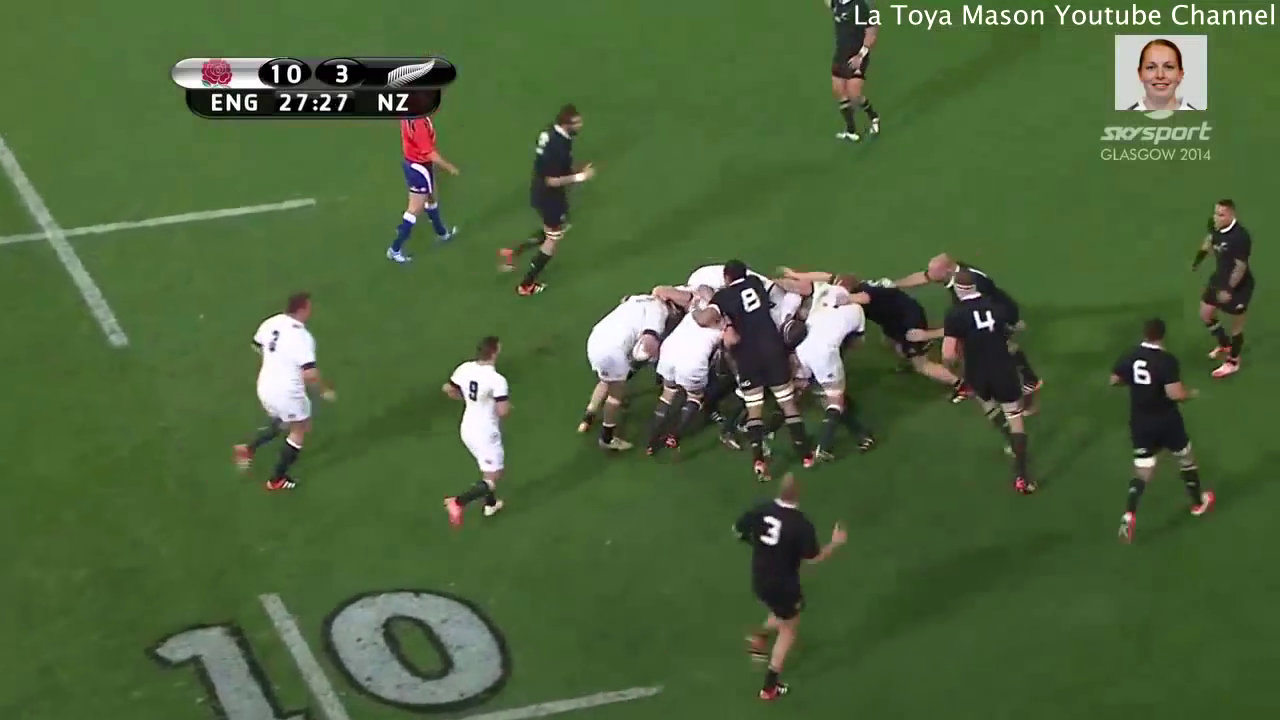player: (725, 472, 845, 699), (1102, 315, 1219, 538), (935, 278, 1045, 507), (229, 285, 333, 498), (493, 99, 599, 300), (435, 336, 521, 520), (377, 119, 464, 267), (1188, 197, 1253, 381), (813, 1, 889, 146)
scrum: (570, 268, 955, 464)
